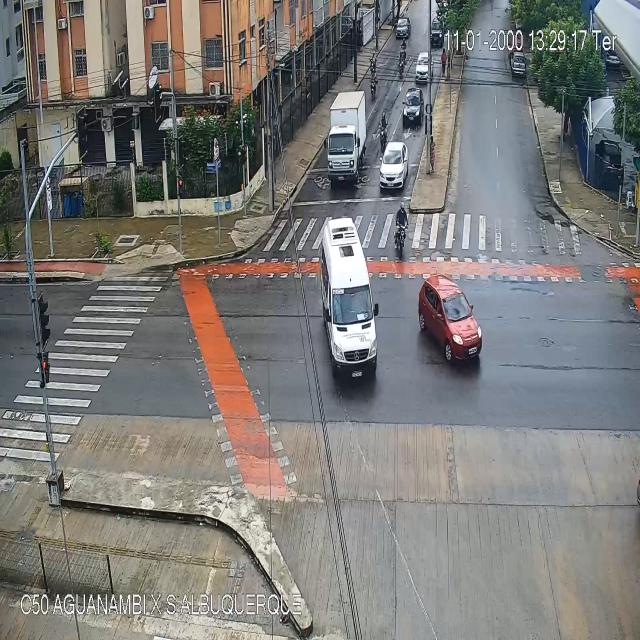Car: (321, 218, 381, 380), (417, 272, 486, 366), (378, 141, 409, 186), (402, 86, 422, 131), (415, 50, 432, 82), (431, 18, 444, 48), (395, 15, 411, 37), (512, 54, 526, 75)
Motorcycle: (394, 202, 407, 260), (378, 112, 387, 155), (397, 48, 405, 78), (370, 67, 377, 101), (369, 50, 377, 72), (401, 38, 406, 62)
Truck: (323, 89, 367, 179)
